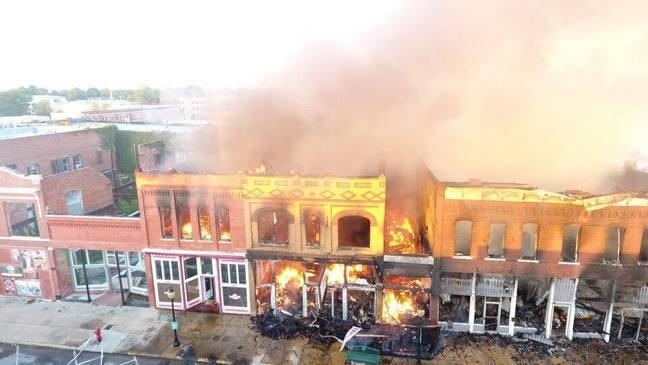fire: (380, 291, 414, 326), (389, 219, 419, 257), (275, 267, 301, 307), (323, 263, 364, 286), (181, 221, 192, 238), (200, 230, 211, 240), (220, 231, 231, 241)
smoke: (330, 0, 647, 191), (168, 83, 329, 174)
